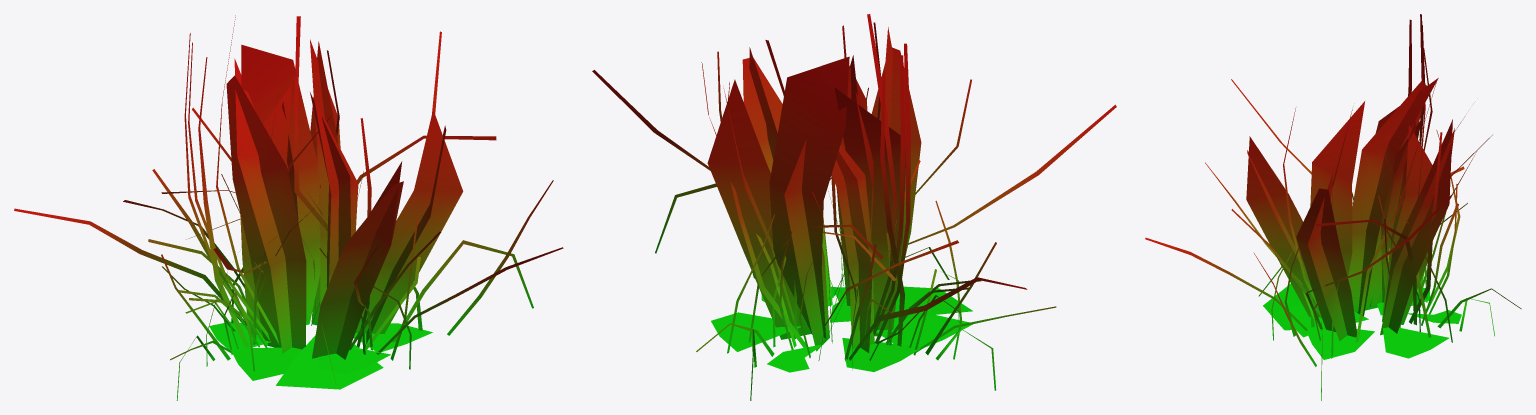
File: Var8_LOD1.fbx
3 renders of one model, left to right at view 1: azimuth 30°, elevation 25°; view 2: azimuth 150°, elevation 25°; view 3: azimuth 270°, elevation 25°, orthographic. The views are drawn at different scales.
Visible parts, largest first — view 1: _2b60_Var8_LOD1; view 2: _2b60_Var8_LOD1; view 3: _2b60_Var8_LOD1.
Part boxes in pixels (<box>): _2b60_Var8_LOD1: <box>14,15,563,400</box>; _2b60_Var8_LOD1: <box>592,14,1116,400</box>; _2b60_Var8_LOD1: <box>1145,14,1521,400</box>.
Bounding box in the file's own units: 25.26 × 19.3 × 21.92.
